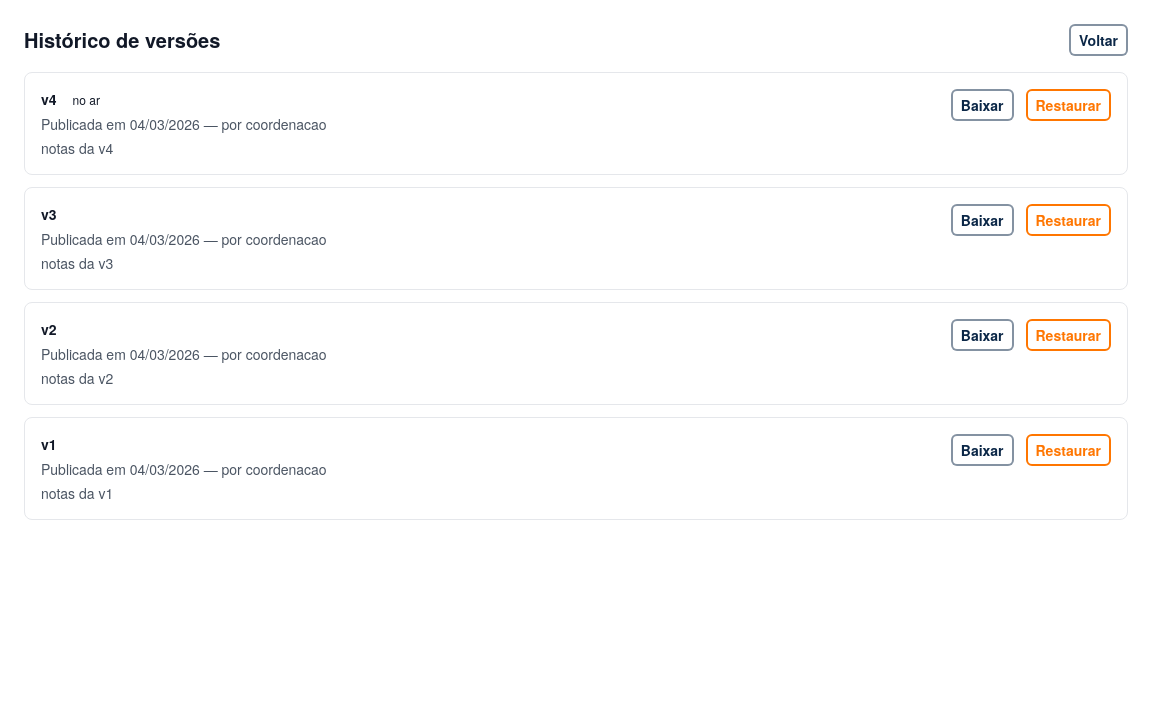
Test: Historico › diz, antes de restaurar, que isto cria um rascunho e que a publicada não muda
Click the 3rd button "Restaurar": x=1068, y=335 left=1036, top=325, right=1101, bottom=345
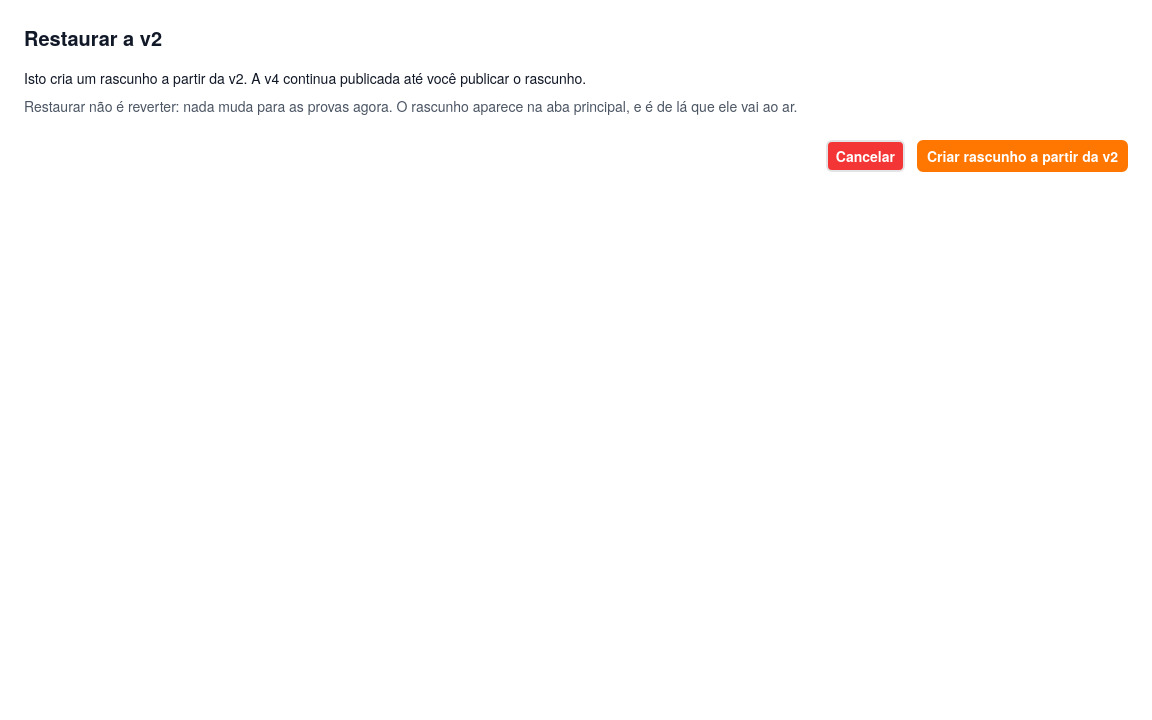
Now the text "Isto cria um rascunho a partir da v2. A v4 continua publicada até você publicar o rascunho." is shown, box left=24, top=68, right=586, bottom=88
